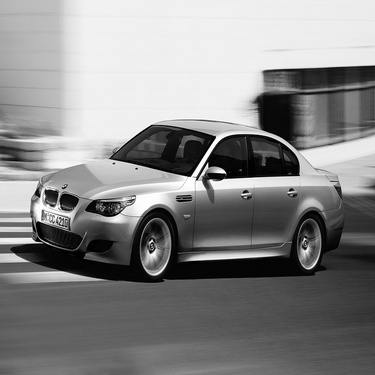car: (21, 109, 351, 285)
